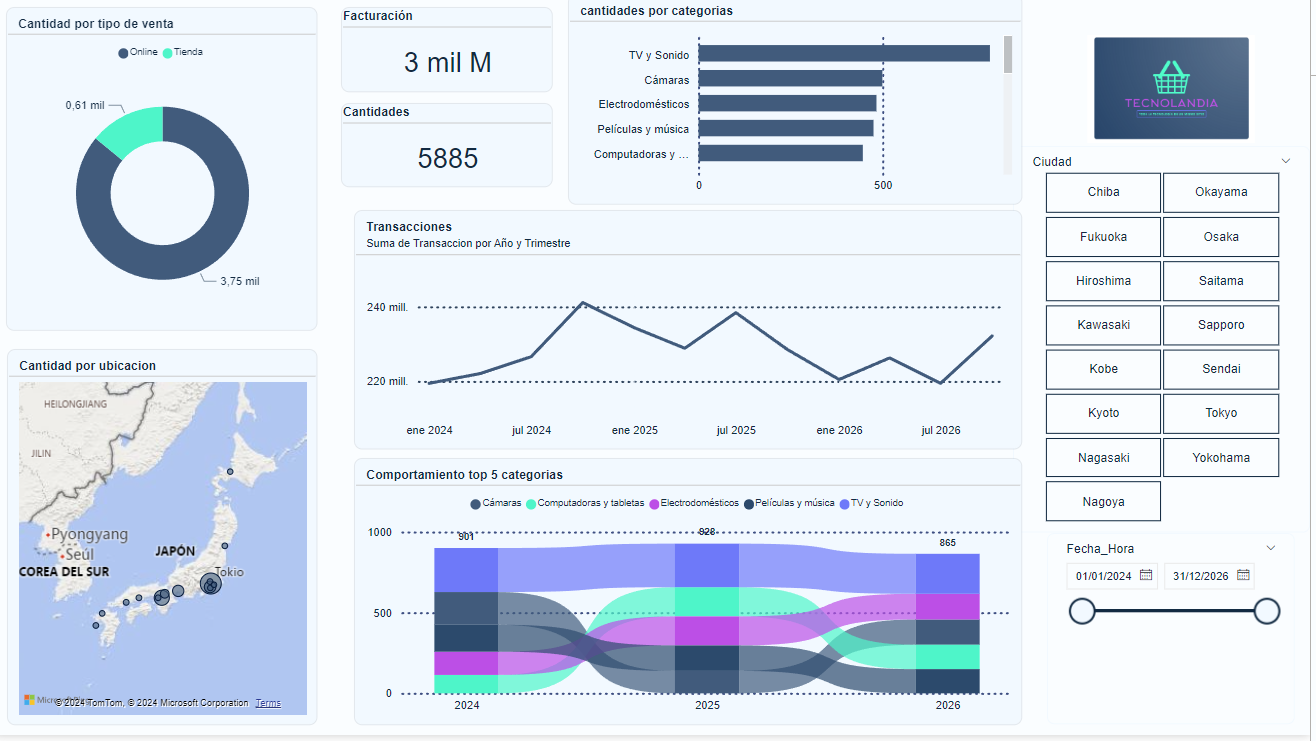

Layout of this report page (visuals, bound fields, positions):
{"tool":"powerbi","page":{"name":"Página 1","canvas":[1280,720],"ordinal":0},"visuals":[{"type":"map","title":"Cantidad por ubicacion","fields":{"Category":["Ciudades1.Ciudad"],"Y":["Avg(Ciudades1.Latitud)"],"X":["Avg(Ciudades1.Longitud)"],"Size":["Sum(Transacciones.Transaccion_#)"]},"box":[13.6,345.3,299.6,363.8],"z":0},{"type":"donutChart","title":"Cantidad por tipo de venta","fields":{"Category":["Transacciones.Tipo_Venta"],"Y":["CountNonNull(Transacciones.ID_Producto)"]},"box":[12.6,12.6,300.5,313.2],"z":1},{"type":"card","title":"Facturación","fields":{"Values":["Sum(Transacciones.Transaccion_#)"]},"box":[338.5,12.6,204.3,80.7],"z":2},{"type":"card","title":"Cantidades","fields":{"Values":["Sum(Transacciones.Cantidad)"]},"box":[338.5,106,204.3,79.8],"z":3},{"type":"image","box":[1053.4,0,182.9,185.8],"z":4},{"type":"slicer","fields":{"Values":["Ciudades1.Ciudad"]},"box":[991.1,146.9,288.9,376.4],"z":5},{"type":"slicer","fields":{"Values":["Transacciones.Fecha_Hora"]},"box":[1024.2,523.3,241.2,185.8],"z":6},{"type":"lineChart","title":"Transacciones","fields":{"Category":["Transacciones.Fecha_Hora.Variación.Jerarquía de fechas.Año","Transacciones.Fecha_Hora.Variación.Jerarquía de fechas.Trimestre","Transacciones.Fecha_Hora.Variación.Jerarquía de fechas.Mes","Transacciones.Fecha_Hora.Variación.Jerarquía de fechas.Día"],"Y":["Sum(Transacciones.Transaccion)"]},"box":[351.1,210.1,647.8,231.5],"z":7},{"type":"clusteredBarChart","title":"cantidades por categorias","fields":{"Y":["Sum(Transacciones.Cantidad)"],"Category":["Categorias.Categoría"]},"box":[559.3,0,439.6,203.3],"z":8},{"type":"ribbonChart","title":"Comportamiento top 5 categorias","fields":{"Category":["Transacciones.Fecha_Hora.Variación.Jerarquía de fechas.Año","Transacciones.Fecha_Hora.Variación.Jerarquía de fechas.Trimestre","Transacciones.Fecha_Hora.Variación.Jerarquía de fechas.Mes","Transacciones.Fecha_Hora.Variación.Jerarquía de fechas.Día"],"Y":["Sum(Transacciones.Cantidad)"],"Series":["Categorias.Categoría"]},"box":[351.1,451.3,647.8,257.8],"z":9}]}

Visuals, with their boxes in screenshot pixels (x1, y1, x2, y2), scaled from the page's 1280x720 canvas onto the 1316x741 screenshot:
"Cantidad por ubicacion" map: 14:355:322:730
"Cantidad por tipo de venta" donutChart: 13:13:322:335
"Facturación" card: 348:13:558:96
"Cantidades" card: 348:109:558:191
image: 1083:0:1271:191
slicer - Ciudades1.Ciudad: 1019:151:1315:539
slicer - Transacciones.Fecha_Hora: 1053:539:1301:730
"Transacciones" lineChart: 361:216:1027:454
"cantidades por categorias" clusteredBarChart: 575:0:1027:209
"Comportamiento top 5 categorias" ribbonChart: 361:464:1027:730
